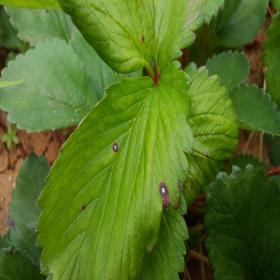Leaf Spot: (35, 71, 194, 279), (56, 0, 208, 79), (183, 62, 241, 209), (5, 151, 50, 268), (3, 5, 74, 47), (0, 244, 45, 279)
